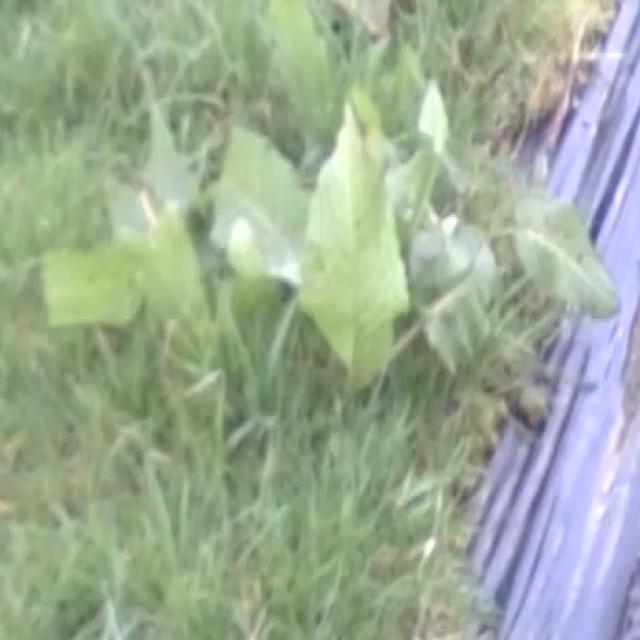organic waste: (42, 34, 636, 437)
